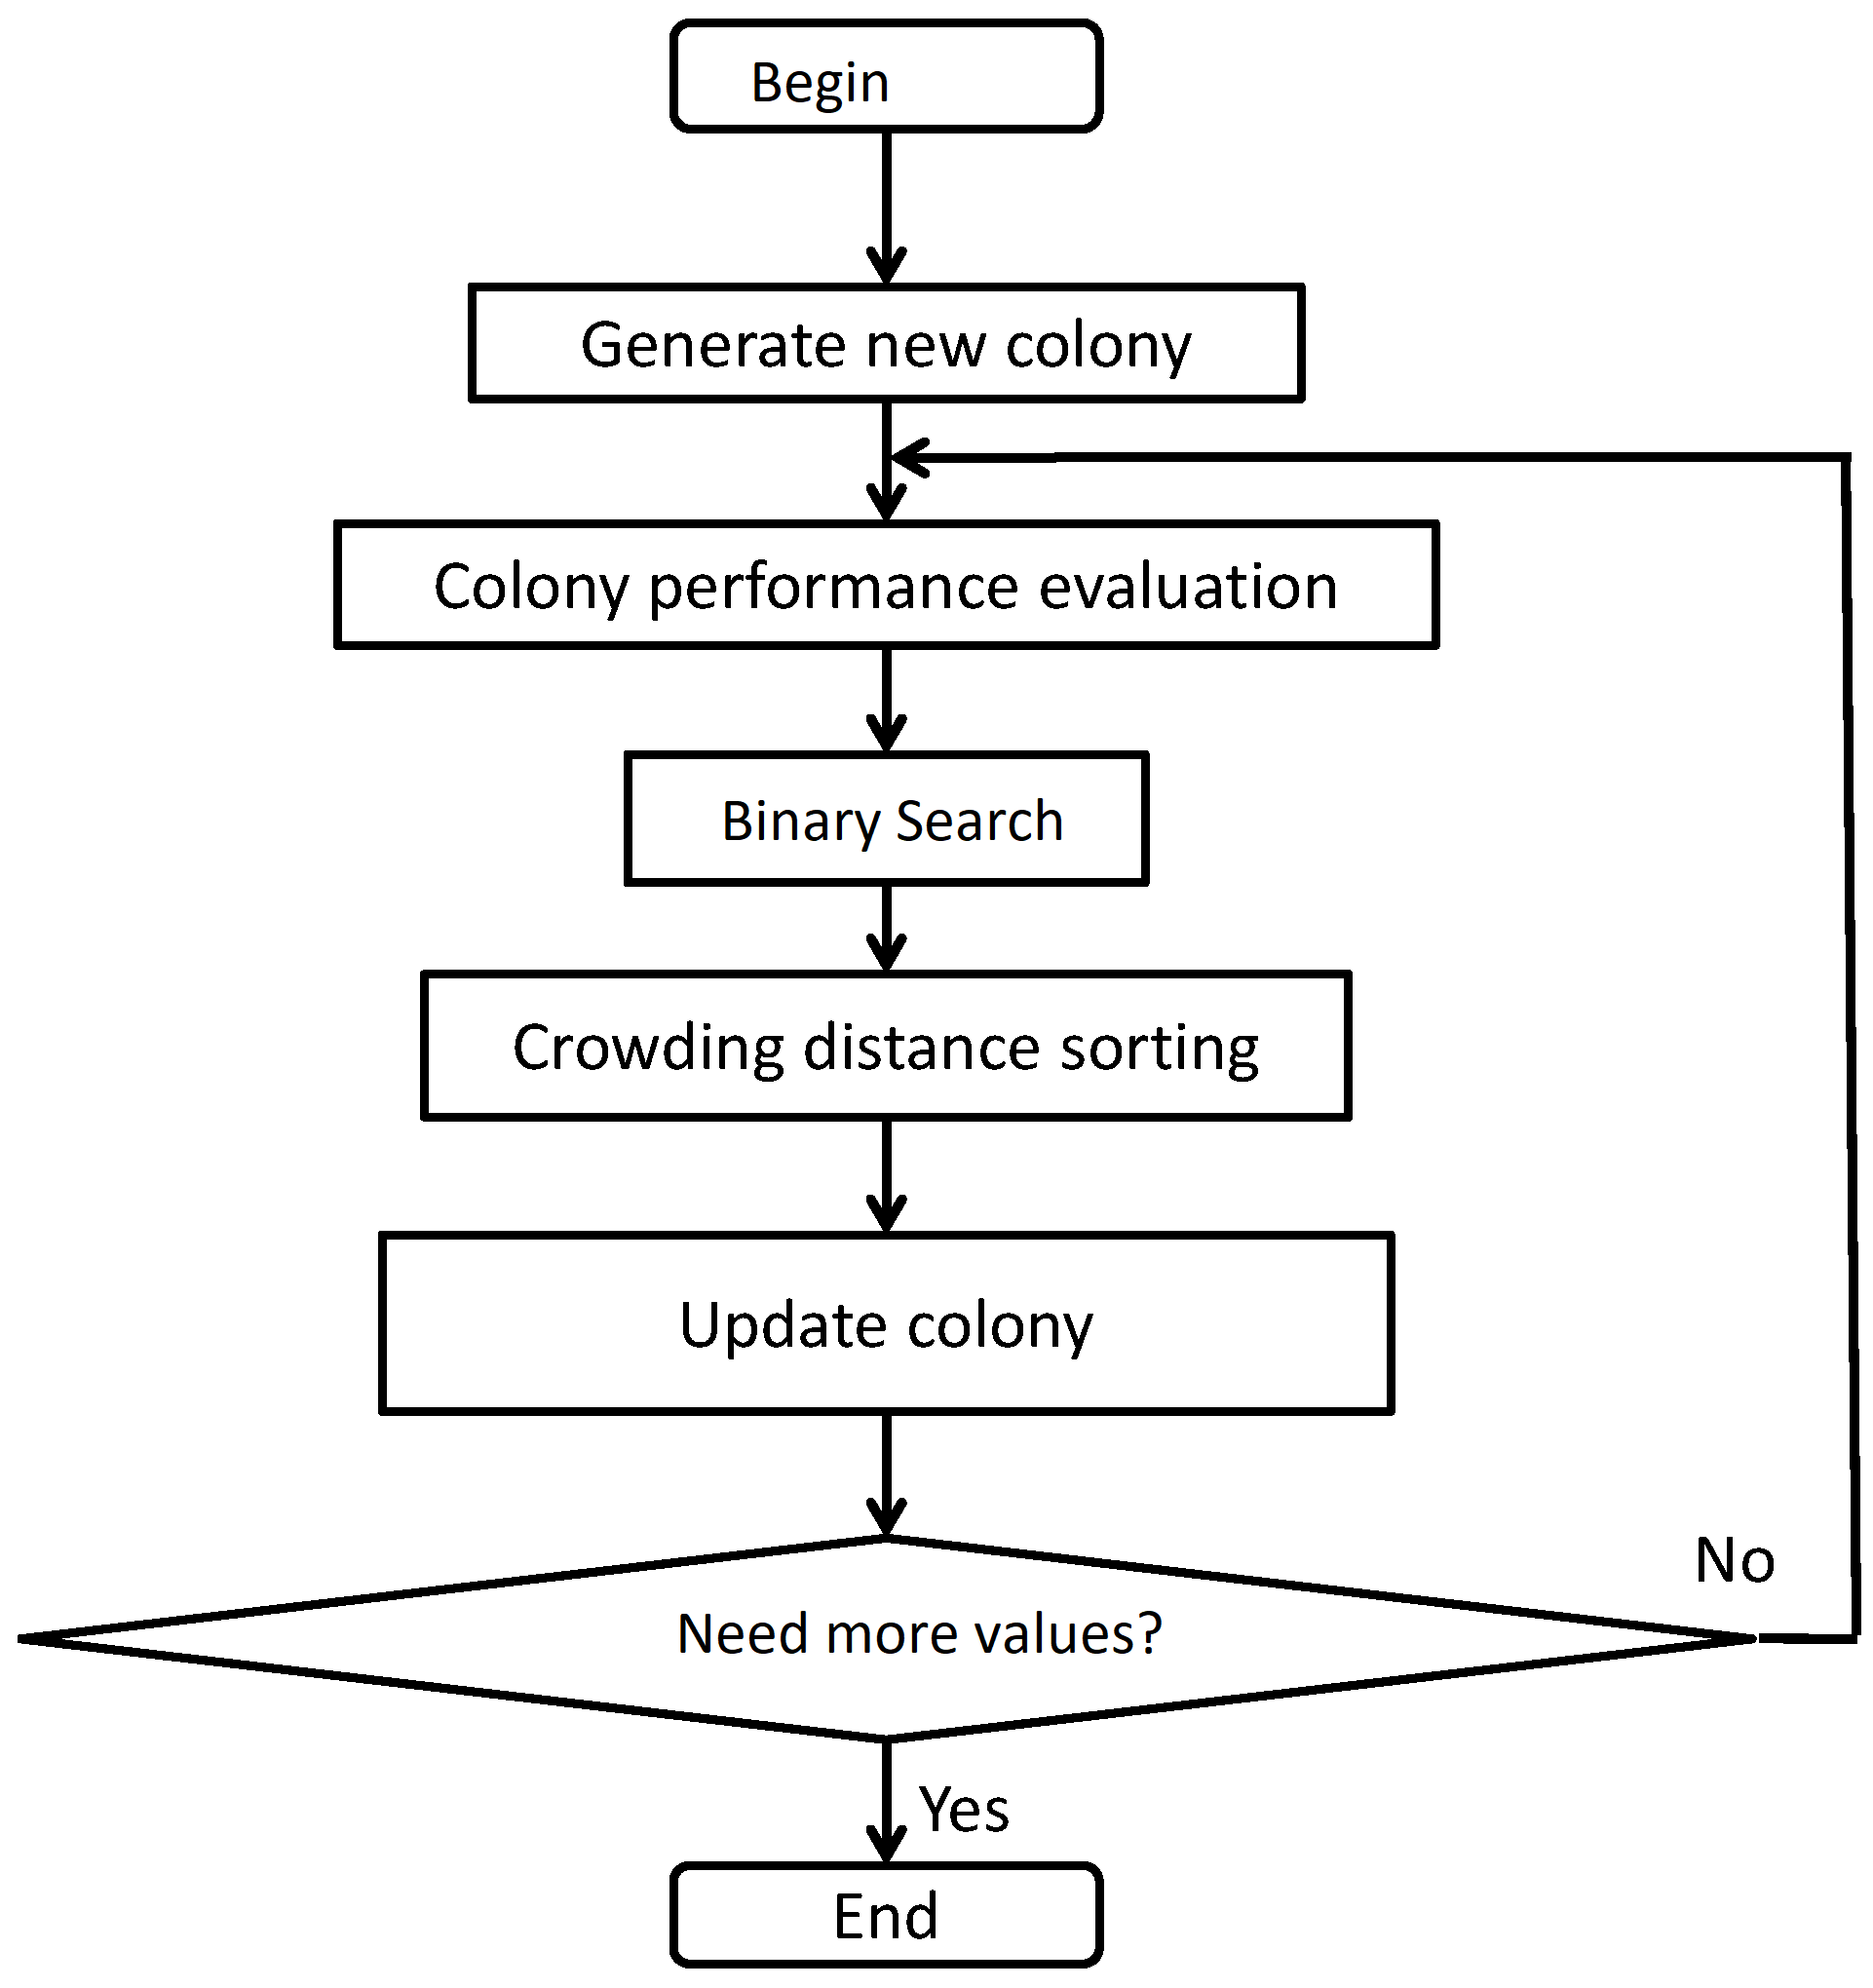arrow: (884, 430, 1873, 1662), (859, 125, 914, 292), (868, 1727, 914, 1868), (861, 1111, 907, 1236), (859, 1407, 905, 1532), (861, 401, 907, 521), (861, 639, 910, 748), (852, 882, 914, 968)
decision: (21, 1532, 1753, 1745)
process: (368, 1215, 1408, 1428), (326, 514, 1452, 664), (410, 961, 1364, 1132), (456, 271, 1318, 417), (614, 743, 1165, 898), (658, 1854, 1111, 1984), (660, 12, 1111, 143)
text: (422, 544, 1352, 627), (502, 1007, 1267, 1102), (572, 305, 1208, 389), (667, 1294, 1098, 1370), (664, 1606, 1169, 1666), (702, 791, 1065, 859), (739, 55, 898, 109), (831, 1884, 952, 1953), (914, 1778, 1019, 1849), (1686, 1532, 1781, 1601)
